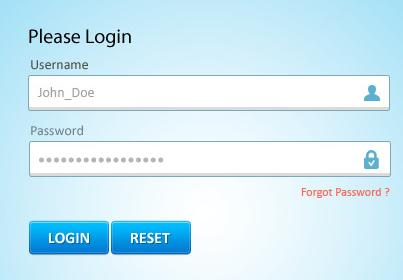field: (25, 71, 391, 112), (28, 139, 393, 178), (28, 221, 110, 256), (110, 221, 192, 255)
field_with_label: (23, 58, 394, 114), (27, 125, 395, 180)
